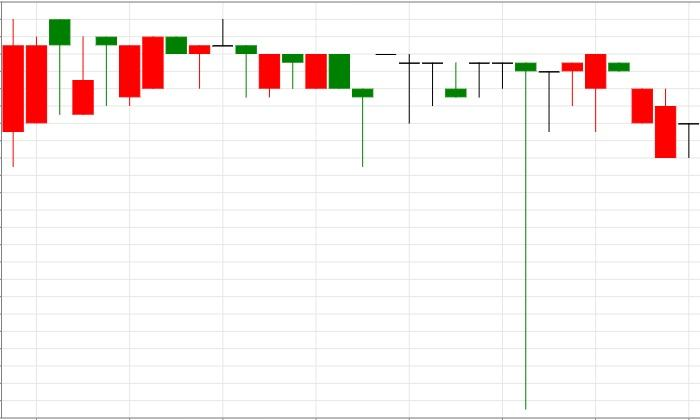hanging_man_fall: (2, 19, 71, 166)
